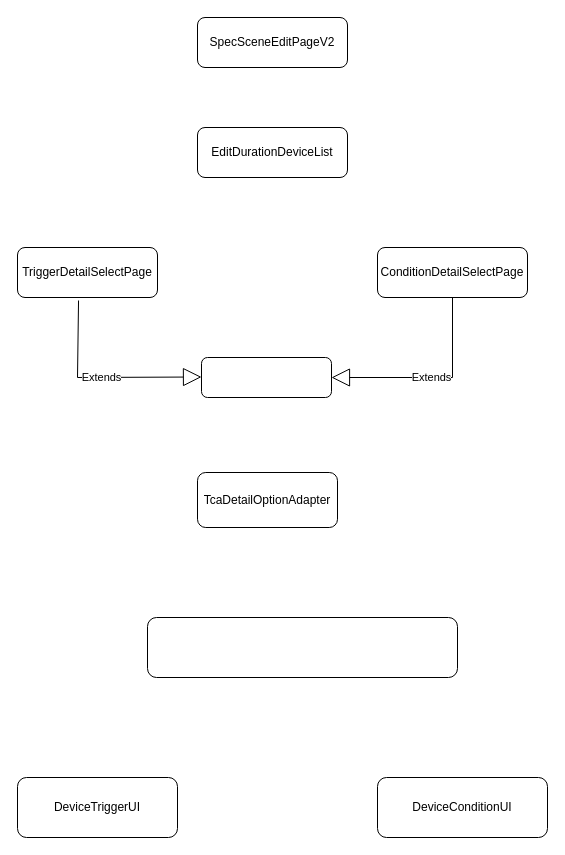
This 565x855 diagram has some shape labels left out. Here are the shapes that lost their labels. From the top down, the centre of each, then its label:
At (x=266, y=377): "TcaDetailSelectPage".
At (x=302, y=647): "关键信息：List<DataTransformer<T, S>>".
